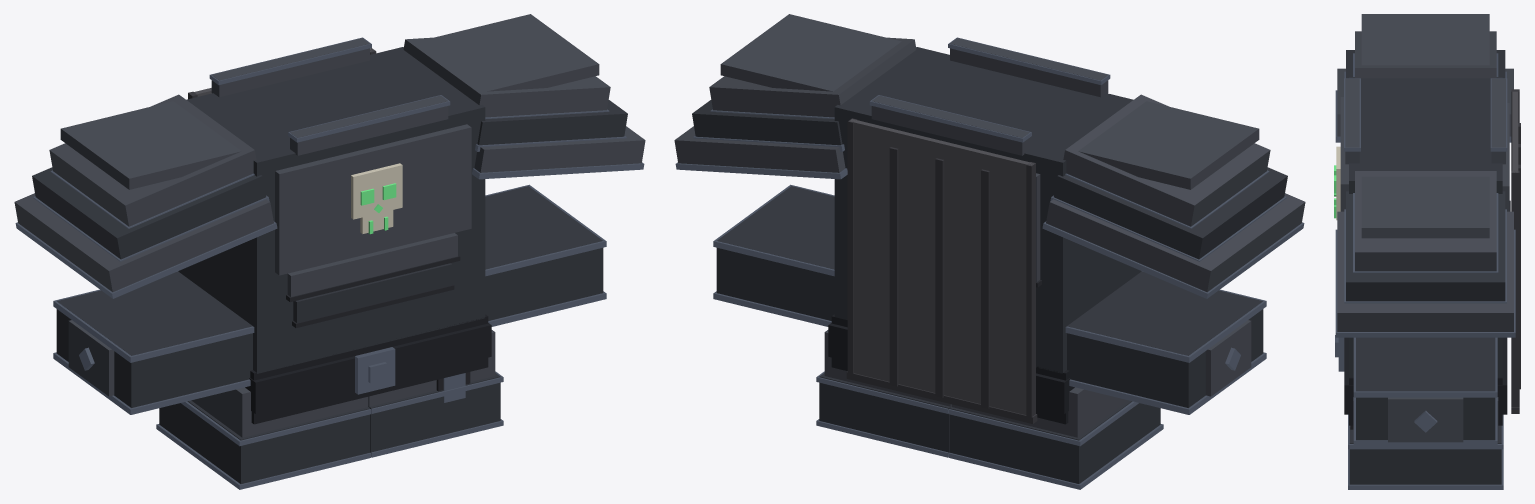
3 renders of one model, left to right at view 1: azimuth 30°, elevation 25°; view 2: azimuth 150°, elevation 25°; view 3: azimuth 270°, elevation 25°, orthographic. The views are drawn at different scales.
Parts seen in each view (by area): view 1: armor-gravewarden; view 2: armor-gravewarden; view 3: armor-gravewarden.
Part boxes in pixels (bbox=[...]): armor-gravewarden: bbox=[14, 14, 645, 489]; armor-gravewarden: bbox=[674, 14, 1305, 489]; armor-gravewarden: bbox=[1334, 14, 1520, 489].
Size of the model in its own units: 1.29 by 0.7806 by 0.4172.
